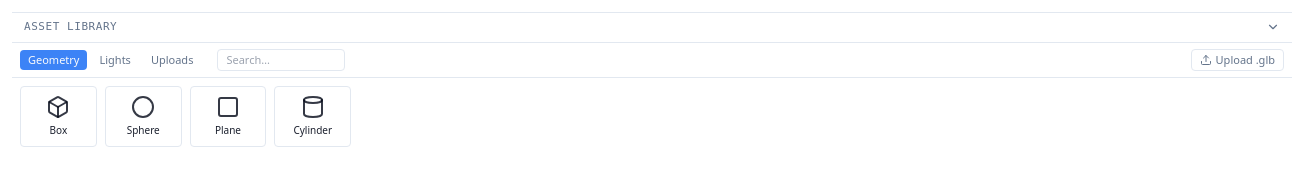
Test case: LibraryPanel › switching to the uploads tab shows uploaded assets by filename
The image size is (1304, 172).
Click the button "Uploads": (172, 60) [143, 50, 201, 70]
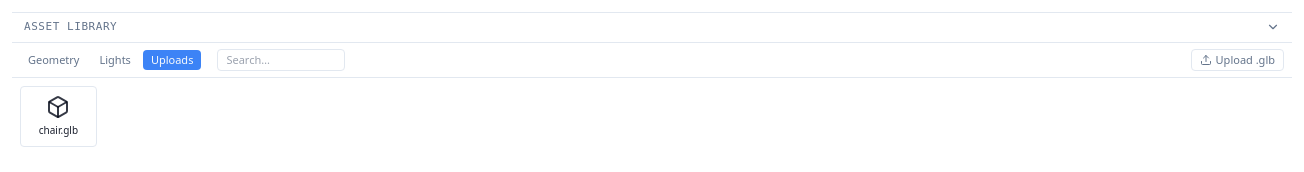
expect the text "chair.glb" is shown: met, box [39, 123, 78, 137]
